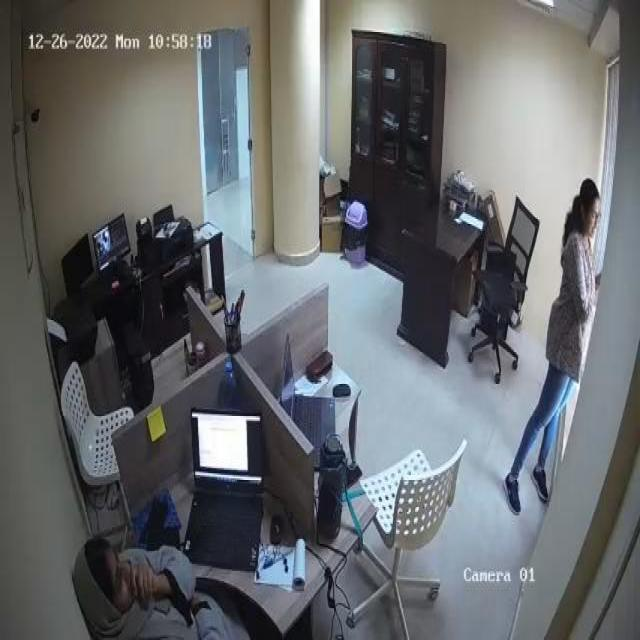bare_hand: (132, 551, 168, 616)
